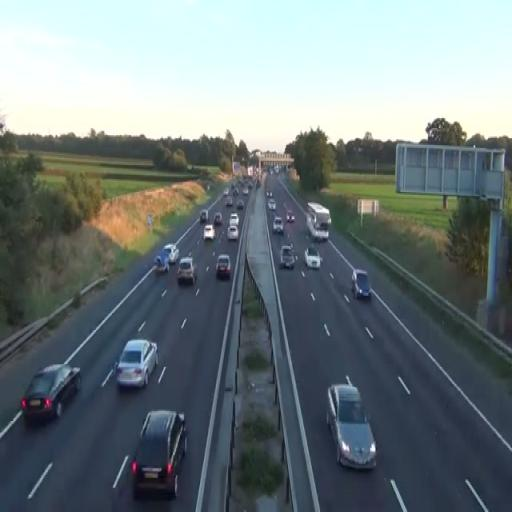Car: (130, 409, 188, 500), (326, 378, 378, 471), (20, 362, 82, 423), (115, 338, 159, 390), (351, 269, 371, 300), (176, 258, 198, 285), (304, 246, 322, 270), (280, 244, 296, 269), (216, 254, 230, 279), (273, 216, 284, 235), (204, 224, 216, 241), (228, 227, 238, 241)
Truck: (306, 202, 331, 242)
